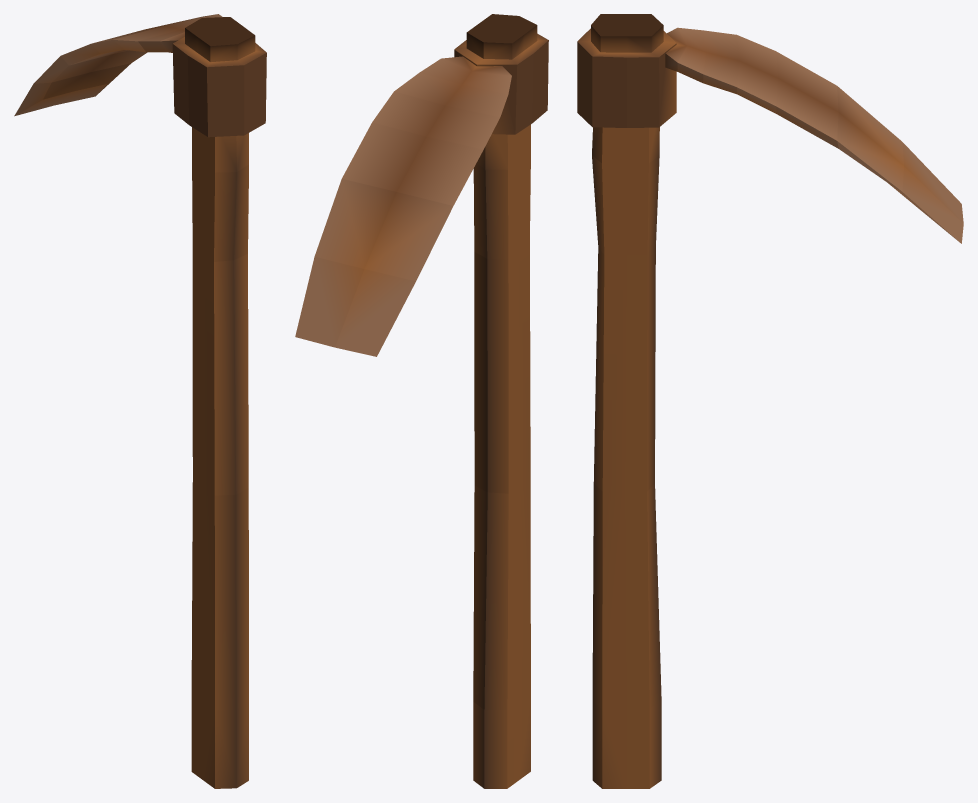
Rendered from woodenHoe.fbx.
The picture shows the model from 3 angles, left to right: view 1: azimuth 30°, elevation 25°; view 2: azimuth 150°, elevation 25°; view 3: azimuth 270°, elevation 25°; orthographic projection.
Parts seen in each view (by area): view 1: Plane.004; view 2: Plane.004; view 3: Plane.004.
Boxes of the visible parts, left/top/right/bottom form: Plane.004: left=14, top=14, right=266, bottom=788; Plane.004: left=295, top=14, right=548, bottom=788; Plane.004: left=577, top=14, right=963, bottom=788.
Bounding box in the file's own units: 83.49 × 533 × 247.
